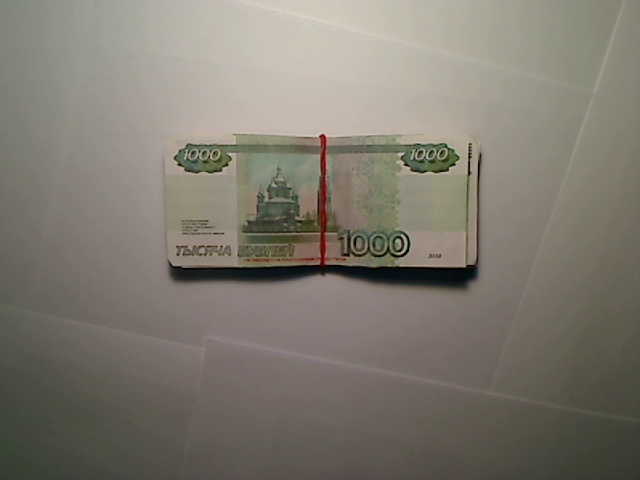banknotes: (161, 129, 481, 271)
